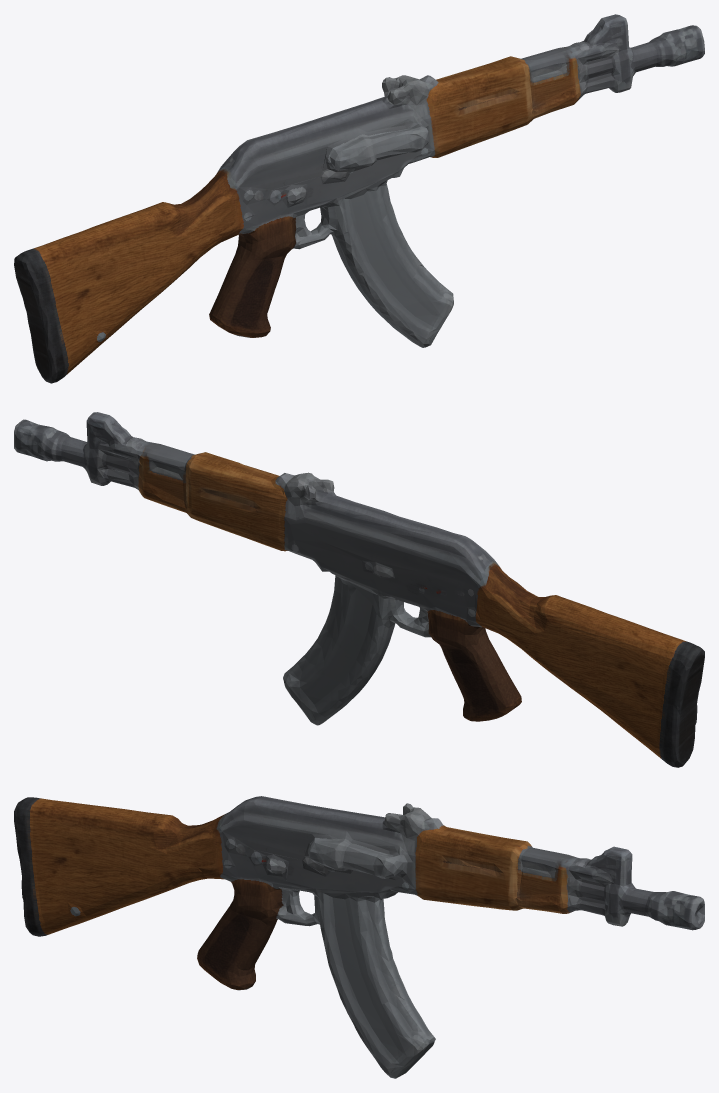
Rendered from rifle_b.fbx.
The picture shows the model from 3 angles, top to bottom: view 1: azimuth 30°, elevation 25°; view 2: azimuth 150°, elevation 25°; view 3: azimuth 330°, elevation 25°; orthographic projection.
Parts seen in each view (by area): view 1: Mesh_0; view 2: Mesh_0; view 3: Mesh_0.
Boxes of the visible parts, x1=… form: Mesh_0: x1=14, y1=14, x2=704, y2=383; Mesh_0: x1=14, y1=412, x2=704, y2=767; Mesh_0: x1=14, y1=796, x2=704, y2=1078.
Bounding box in the file's own units: 0.7188 × 0.27 × 0.0594.
1 material, 1 textured.
